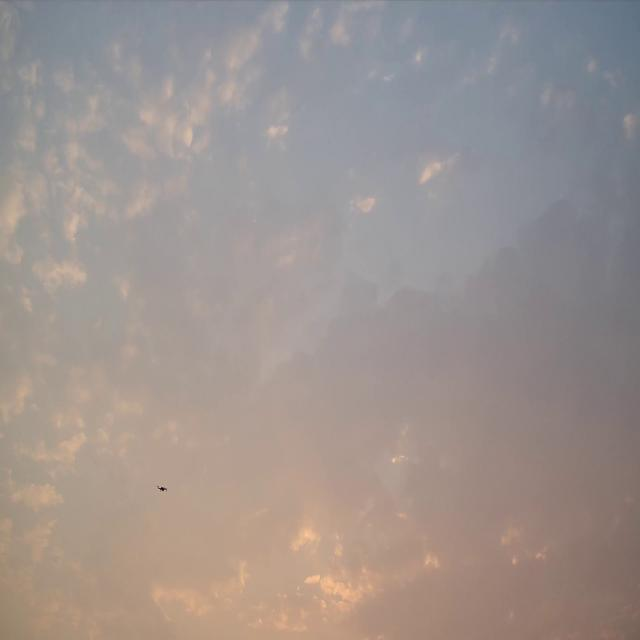UAV: (156, 485, 168, 492)
